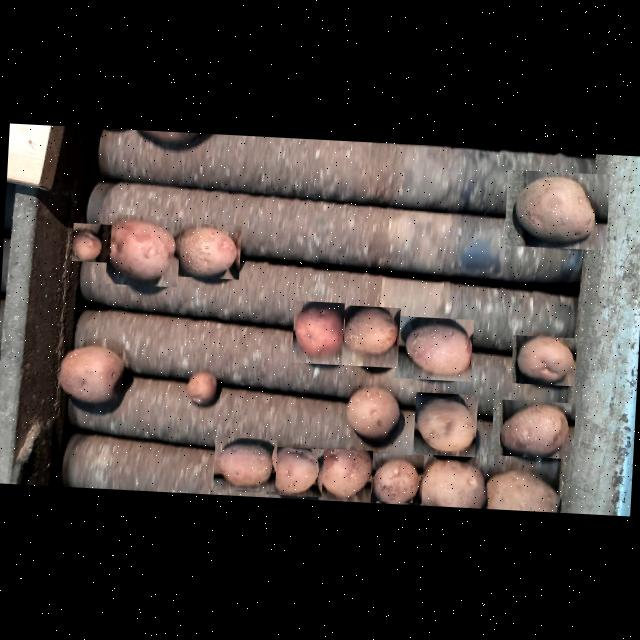Diseased-fungal potato: (504, 170, 610, 251), (48, 341, 132, 411), (106, 214, 182, 288), (395, 316, 474, 382), (491, 400, 576, 460), (413, 392, 478, 457), (173, 222, 242, 280), (342, 305, 401, 368), (213, 437, 278, 492), (292, 300, 345, 366), (511, 336, 577, 386), (318, 448, 374, 503), (343, 385, 400, 439), (266, 447, 324, 498), (368, 452, 424, 503), (186, 366, 225, 410), (72, 223, 112, 263)
